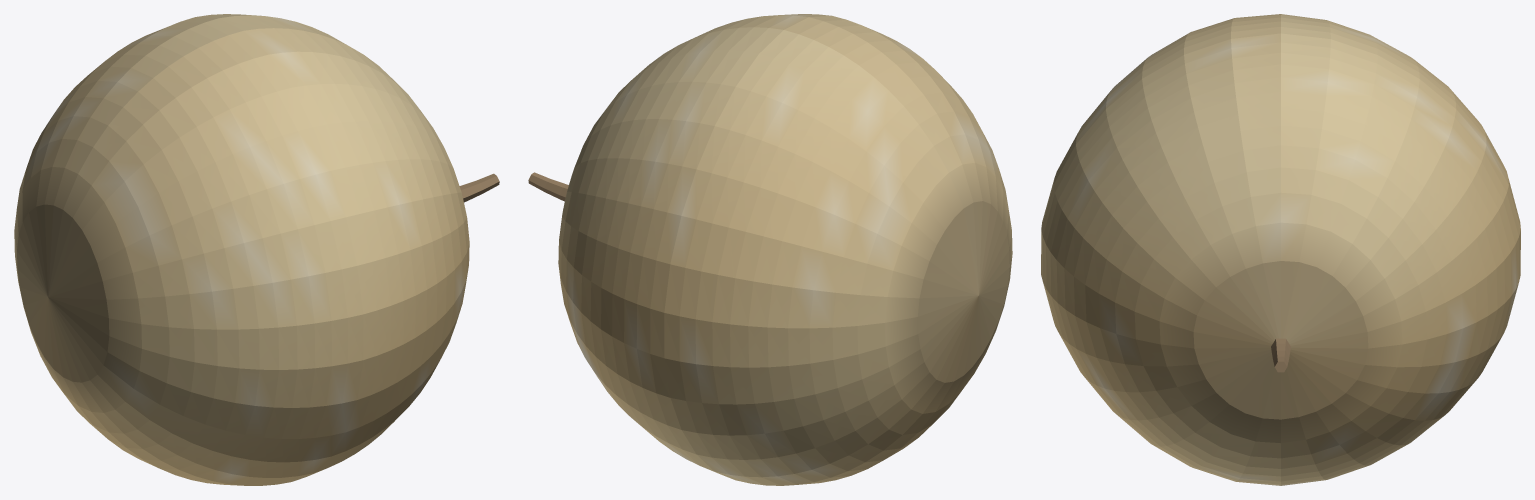
File: pear.glb
3 views of the same model, side by side, from view 1: azimuth 30°, elevation 25°; view 2: azimuth 150°, elevation 25°; view 3: azimuth 270°, elevation 25° (orthographic).
Parts seen in each view (by area): view 1: pear; view 2: pear; view 3: pear.
Boxes of the visible parts, <box> form: pear: <box>14,14,499,485</box>; pear: <box>528,14,1012,485</box>; pear: <box>1041,14,1520,485</box>.
Bounding box in the file's own units: 1.09 × 1.02 × 1.01.
